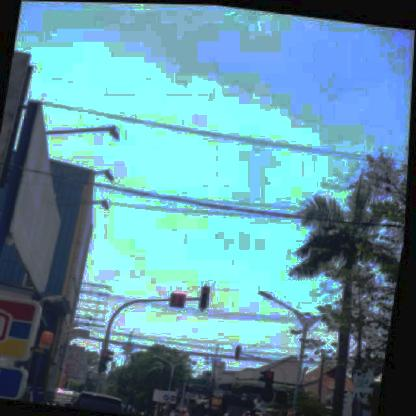Traffic Light -Red-: (102, 347, 115, 373), (267, 370, 279, 394), (203, 284, 213, 308)
